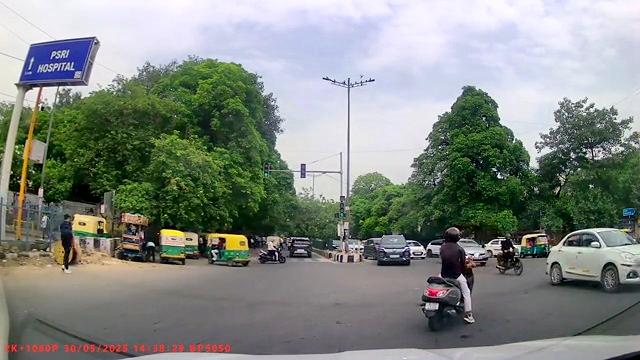motorcycle_with_helmet: (421, 226, 477, 331), (495, 233, 524, 276)
